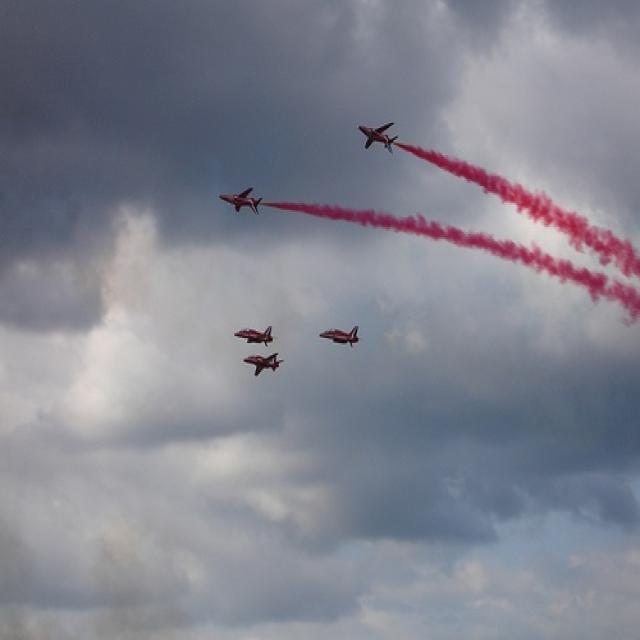aeroplane: (216, 186, 262, 217), (357, 119, 398, 152), (317, 322, 361, 347), (241, 350, 284, 375), (233, 322, 275, 347)
